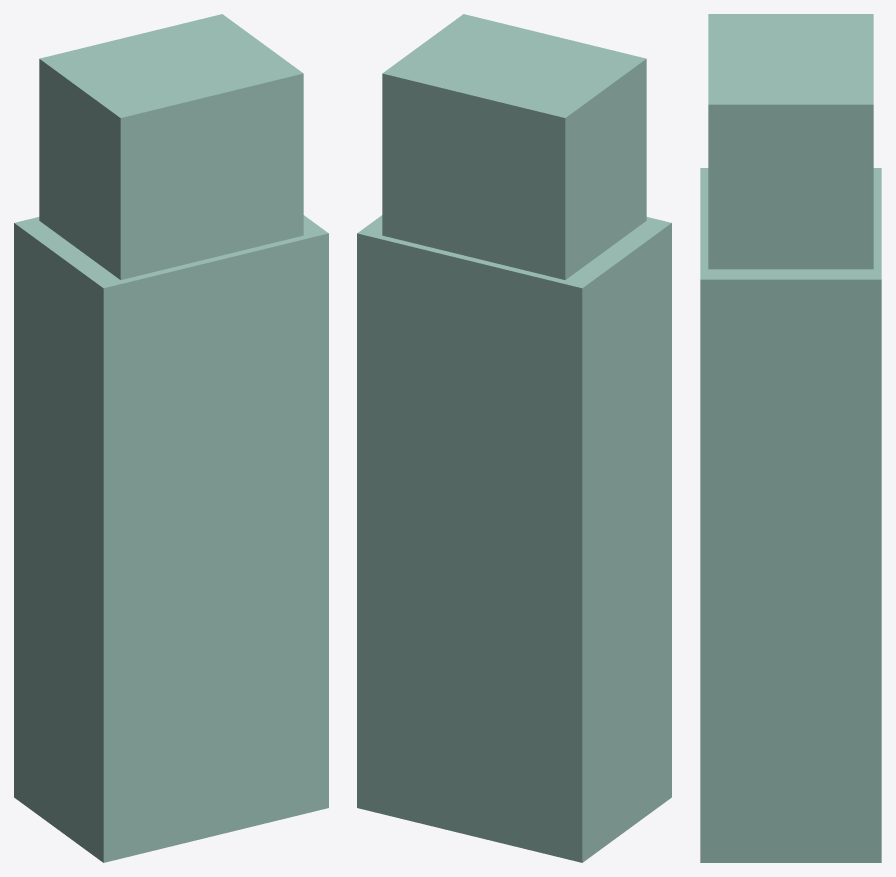
Rendered from place-statue-of-liberty.glb.
3 renders of one model, left to right at view 1: azimuth 30°, elevation 25°; view 2: azimuth 150°, elevation 25°; view 3: azimuth 270°, elevation 25°, orthographic.
Parts seen in each view (by area): view 1: place-statue-of-liberty; view 2: place-statue-of-liberty; view 3: place-statue-of-liberty.
Boxes of the visible parts, x1,y1,x2,y2 form: place-statue-of-liberty: (14,14,328,862); place-statue-of-liberty: (357,14,671,862); place-statue-of-liberty: (700,14,881,862).
Bounding box in the file's own units: 29.76 × 92.99 × 20.46.
